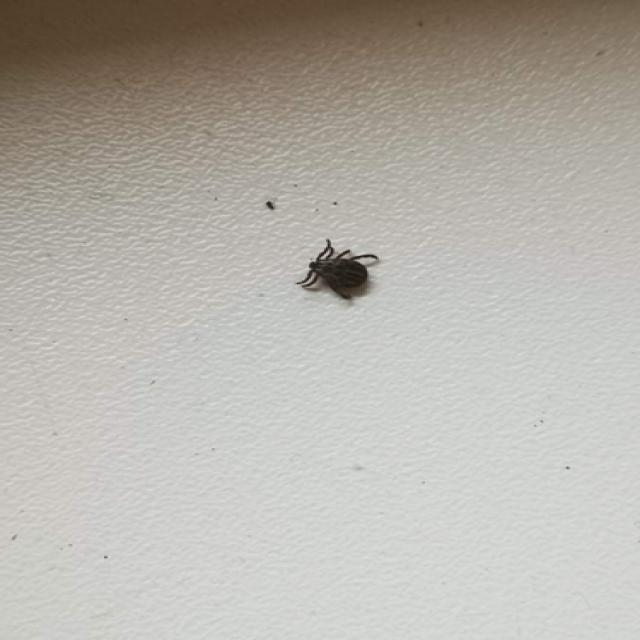Dermacentor Reticulatus-M: (299, 243, 381, 303)
